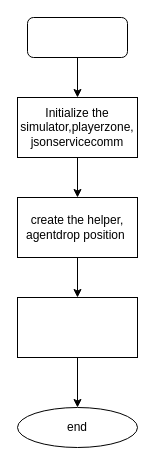
Image size: 155x465. Some labels were removed from this diagram. The shapes that lost their labels are listed below. From the top down, each one's centre as x and y in pixels, then its label:
pixel 77 37: start
pixel 77 327: initalize restagent,freevehicle array
